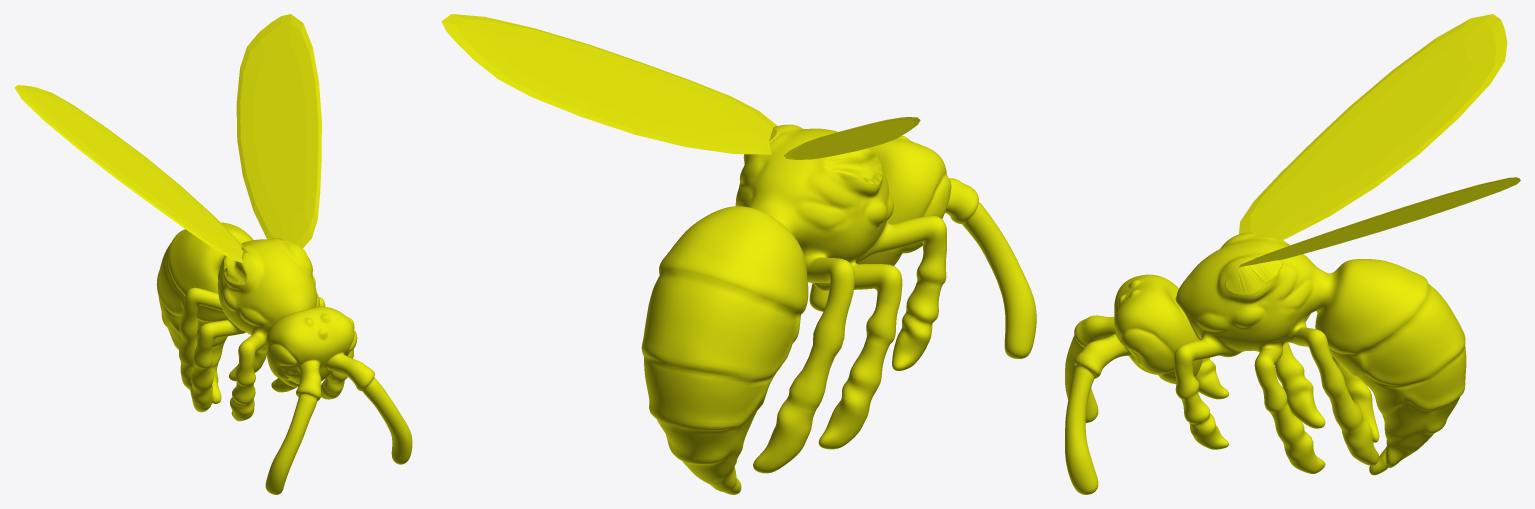
File: bug-4 1.fbx
The picture shows the model from 3 angles, left to right: view 1: azimuth 30°, elevation 25°; view 2: azimuth 150°, elevation 25°; view 3: azimuth 270°, elevation 25°; orthographic projection. The views are drawn at different scales.
Parts seen in each view (by area): view 1: 18748_Hornet_Stinging_v1, Plane.001, Plane; view 2: 18748_Hornet_Stinging_v1, Plane.001, Plane; view 3: 18748_Hornet_Stinging_v1, Plane, Plane.001.
Part boxes in pixels (bbox=[...]): 18748_Hornet_Stinging_v1: bbox=[156, 222, 412, 494]; Plane.001: bbox=[236, 14, 321, 248]; Plane: bbox=[14, 85, 243, 263]; 18748_Hornet_Stinging_v1: bbox=[641, 124, 1036, 494]; Plane.001: bbox=[441, 14, 776, 154]; Plane: bbox=[784, 117, 920, 159]; 18748_Hornet_Stinging_v1: bbox=[1065, 232, 1466, 494]; Plane: bbox=[1239, 14, 1507, 241]; Plane.001: bbox=[1239, 177, 1520, 267].
Size of the model in its own units: 768 by 805 by 891.
